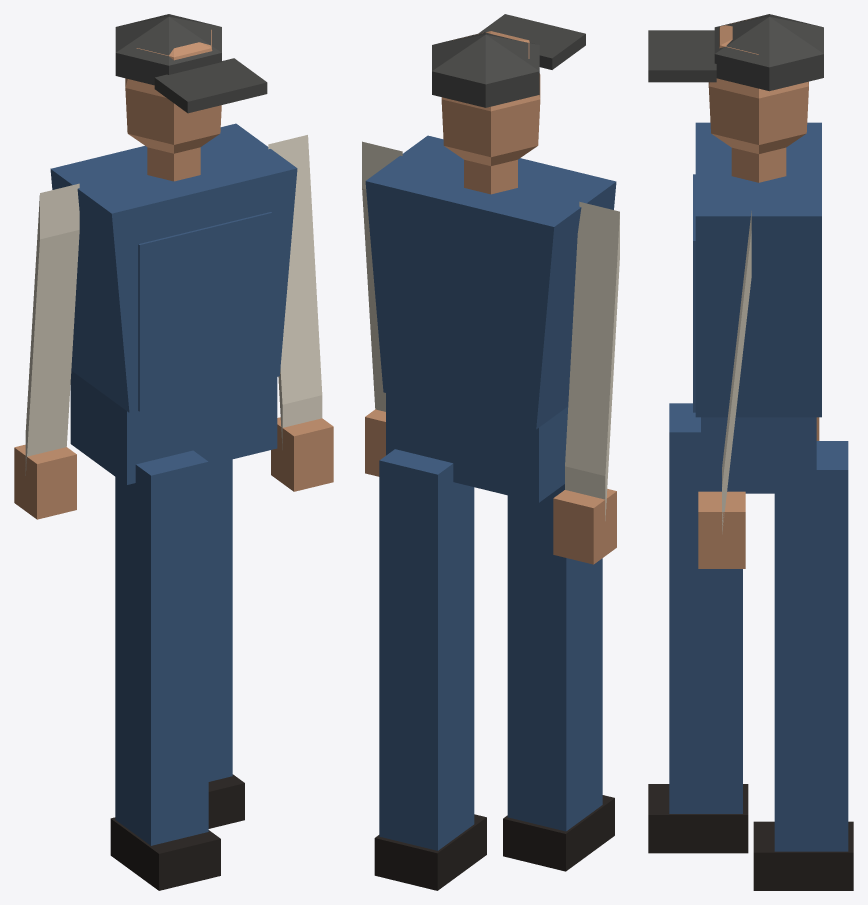
The model's file is life_person_e.glb.
3 views of the same model, side by side, from view 1: azimuth 30°, elevation 25°; view 2: azimuth 150°, elevation 25°; view 3: azimuth 270°, elevation 25° (orthographic). The views are drawn at different scales.
Visible parts, largest first — view 1: life_person_e; view 2: life_person_e; view 3: life_person_e.
Boxes of the visible parts, left/top/right/bottom form: life_person_e: left=14, top=14, right=333, bottom=890; life_person_e: left=362, top=14, right=619, bottom=890; life_person_e: left=648, top=14, right=853, bottom=890.
Size of the model in its own units: 0.59 by 1.76 by 0.39.
